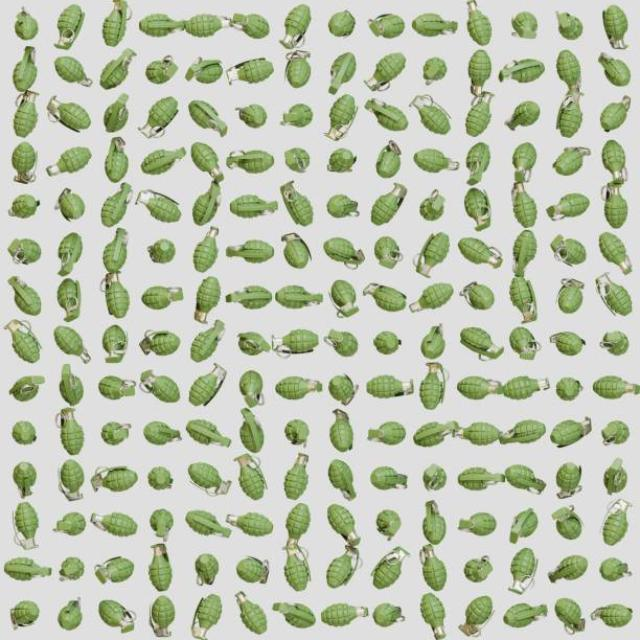grenade: (188, 362, 233, 409), (411, 232, 454, 281), (45, 94, 95, 136), (362, 53, 411, 95), (279, 180, 317, 229), (46, 144, 96, 181), (370, 183, 410, 229), (224, 56, 278, 90), (186, 98, 229, 140), (225, 146, 277, 180), (361, 281, 409, 316), (54, 231, 88, 280), (192, 275, 223, 327), (191, 226, 223, 276), (223, 239, 279, 267), (368, 375, 418, 404), (276, 375, 327, 402), (54, 187, 90, 225), (328, 281, 361, 321), (458, 280, 498, 312), (234, 102, 271, 132), (419, 189, 449, 223), (373, 333, 407, 357)
